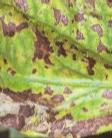Tomato leaf bacterial spot: (0, 0, 112, 134)
